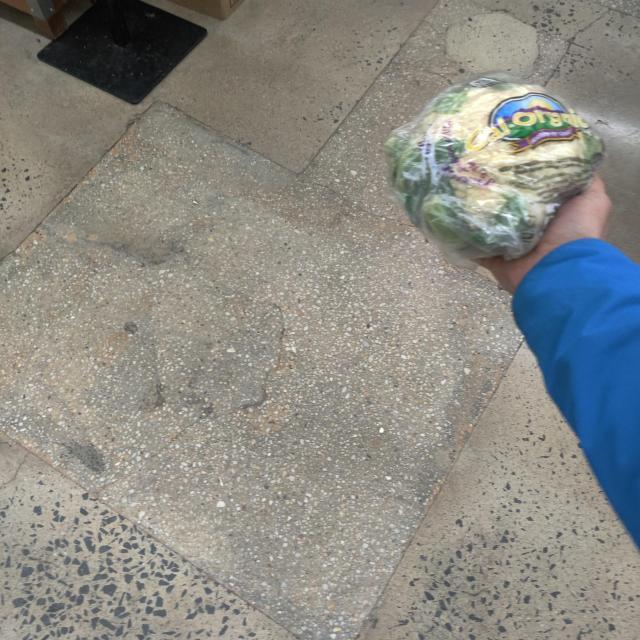Cauliflower: (380, 75, 622, 269)
